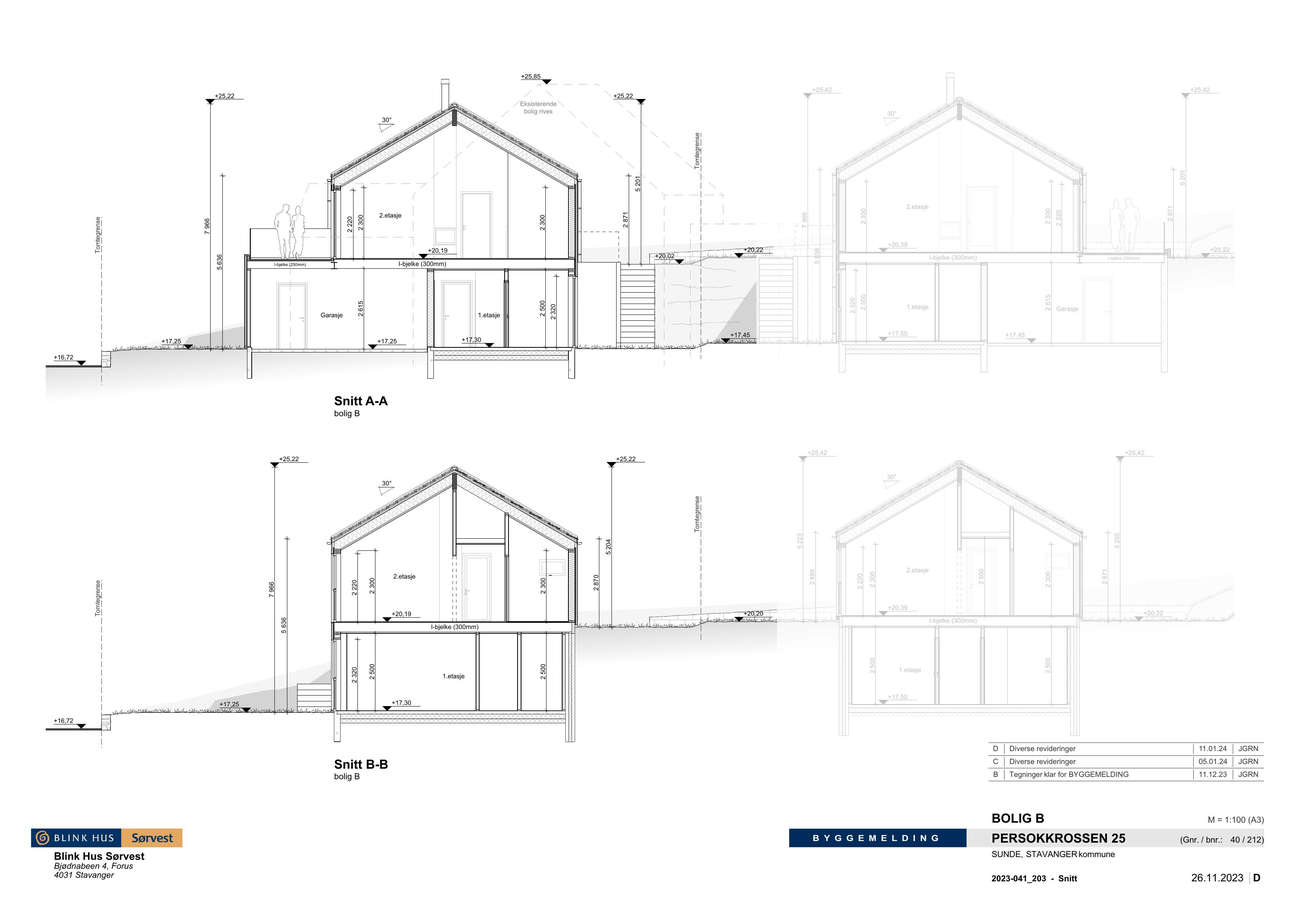snitt: (244, 103, 583, 377), (327, 466, 583, 742)
